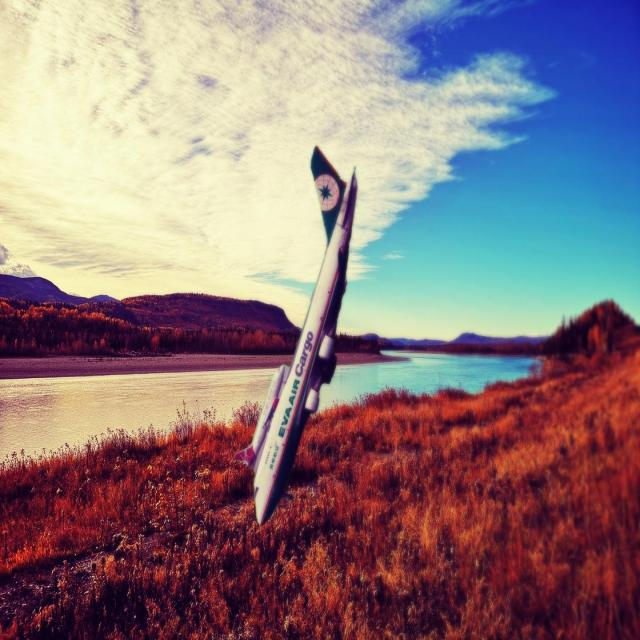airplane: (233, 144, 358, 526)
